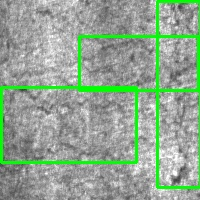crazing: (1, 87, 136, 162), (157, 1, 200, 187), (79, 36, 198, 90)
